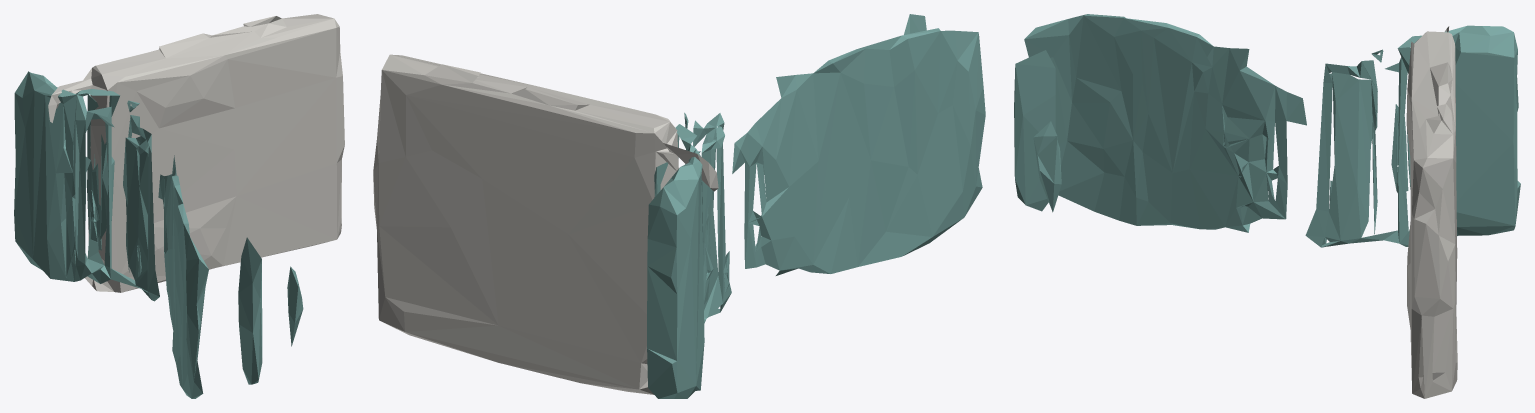
The model's file is chair_03_urdf_anything_plus_closed.glb.
The picture shows the model from 3 angles, left to right: view 1: azimuth 30°, elevation 25°; view 2: azimuth 150°, elevation 25°; view 3: azimuth 270°, elevation 25°; orthographic projection. The views are drawn at different scales.
Parts seen in each view (by area): view 1: p0; view 2: p0; view 3: p0.
Boxes of the visible parts, box(x1,y1,x2,y2) form: p0: box(14, 14, 344, 398); p0: box(373, 14, 985, 398); p0: box(1014, 14, 1520, 398).
Size of the model in its own units: 1.26 by 0.8721 by 1.54.
